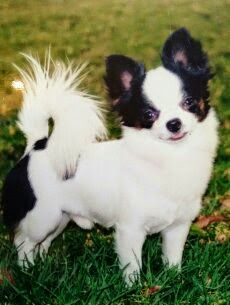chihuahua: (3, 26, 223, 290)
